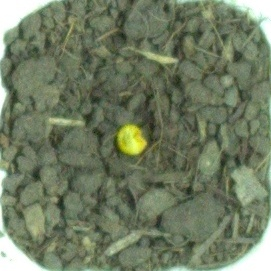chilli seed: (114, 122, 150, 157)
